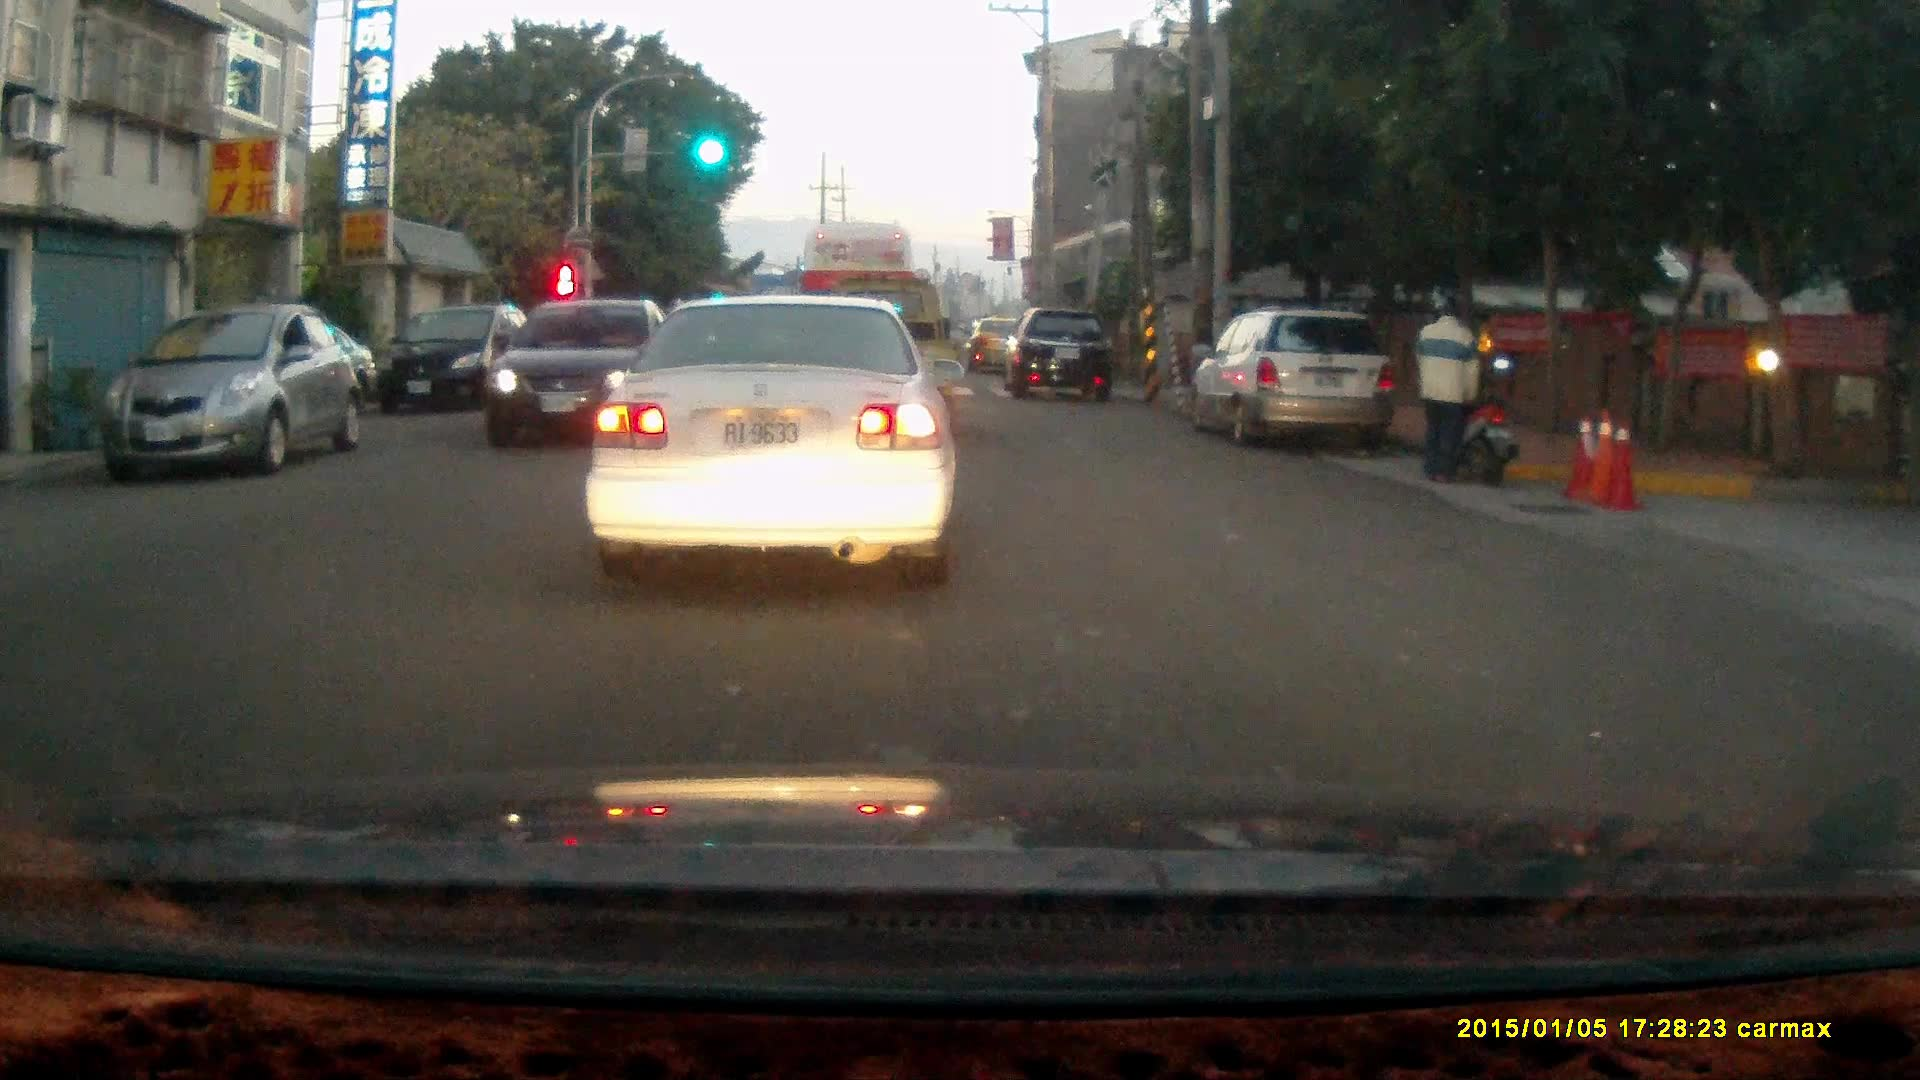pedestrian: (1409, 293, 1485, 487)
vehicle: (589, 273, 958, 564), (92, 301, 363, 477), (1199, 309, 1403, 450), (490, 299, 678, 448), (798, 213, 916, 377), (367, 304, 540, 411), (1010, 304, 1122, 399)
